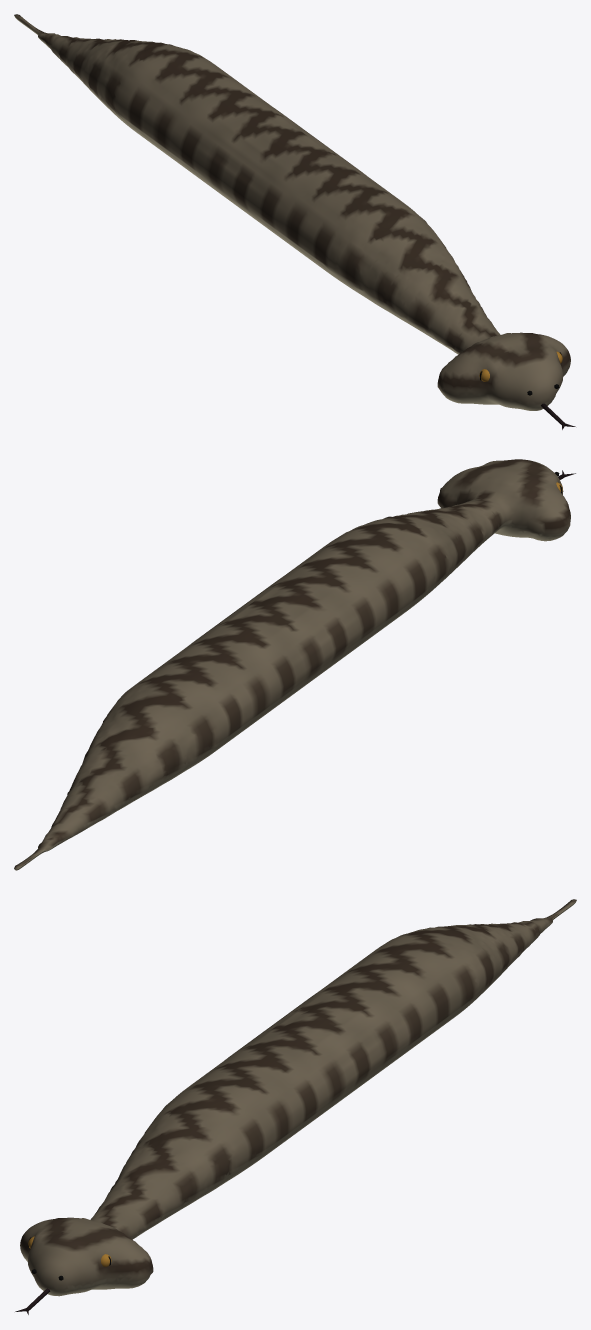
The model's file is LaophisCrotaloides.fbx.
3 renders of one model, top to bottom at view 1: azimuth 30°, elevation 25°; view 2: azimuth 150°, elevation 25°; view 3: azimuth 330°, elevation 25°, orthographic.
Visible parts, largest first — view 1: LaophisCrotaloides; view 2: LaophisCrotaloides; view 3: LaophisCrotaloides.
Part boxes in pixels (x1,y1,x2,y2): LaophisCrotaloides: [14, 14, 575, 429]; LaophisCrotaloides: [14, 459, 575, 870]; LaophisCrotaloides: [15, 899, 576, 1314].
Bounding box in the file's own units: 0.3327 × 0.2415 × 2.52.
